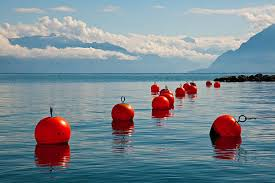buoy: (34, 116, 71, 147), (212, 114, 241, 142), (112, 103, 136, 123), (152, 96, 170, 109), (159, 93, 175, 107), (160, 89, 174, 102), (188, 84, 198, 95), (150, 83, 160, 93), (176, 86, 184, 97), (184, 83, 191, 90), (215, 81, 220, 87), (207, 81, 212, 86)
